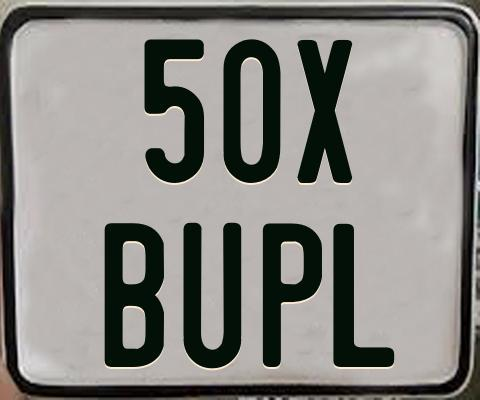0: (221, 37, 284, 184)
5: (141, 37, 201, 181)
B: (104, 223, 169, 371)
L: (330, 224, 392, 368)
P: (261, 221, 326, 367)
U: (182, 221, 242, 370)
X: (294, 37, 355, 182)
